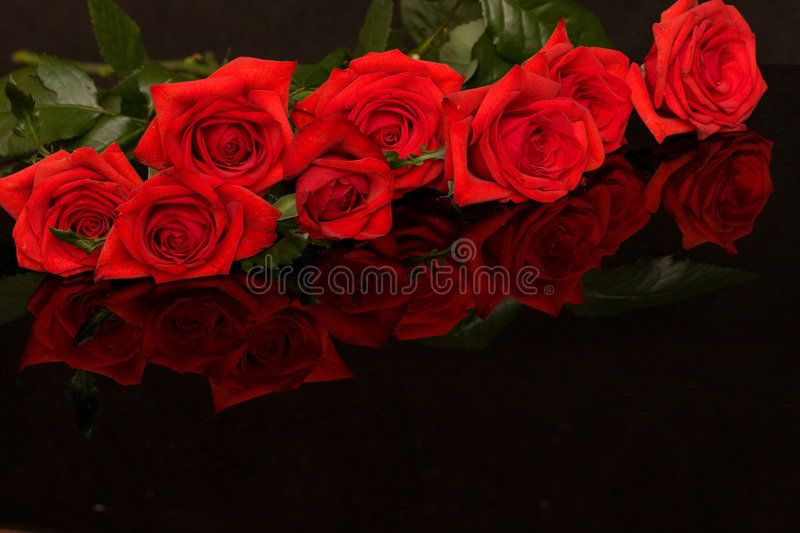RedRose: (326, 54, 447, 184), (655, 4, 773, 136), (14, 154, 124, 274), (159, 65, 273, 169), (536, 44, 661, 138), (140, 180, 258, 278), (470, 92, 575, 198), (291, 131, 397, 230)
